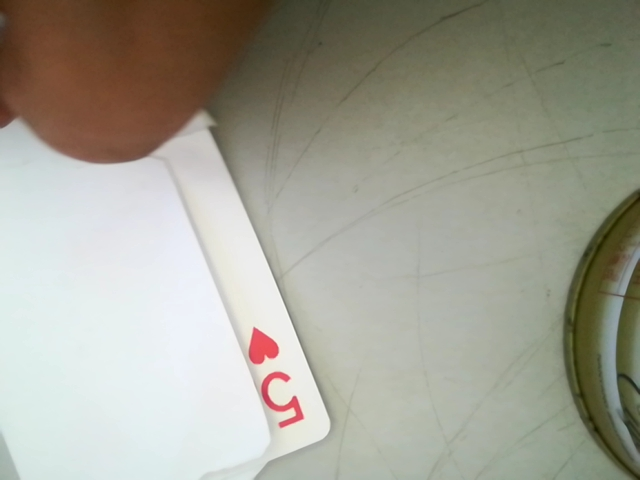hx 5: (230, 313, 310, 440)
